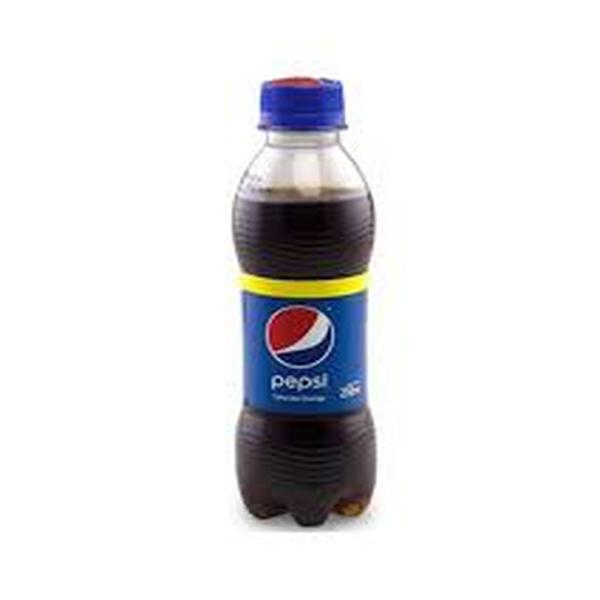tutuma: (223, 64, 385, 535)
